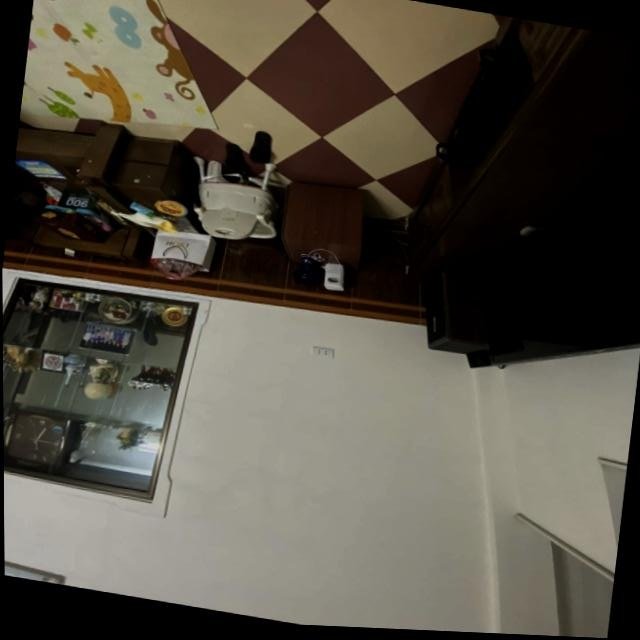outlet: (312, 344, 336, 359)
